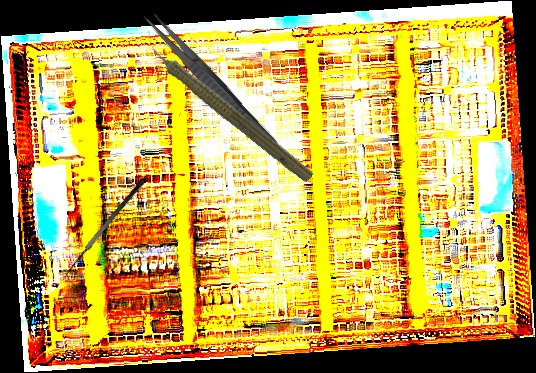Dressing Forceps: (138, 6, 286, 160)
Handpiece: (133, 28, 320, 187)
Spatula Surgical: (58, 175, 156, 284)
